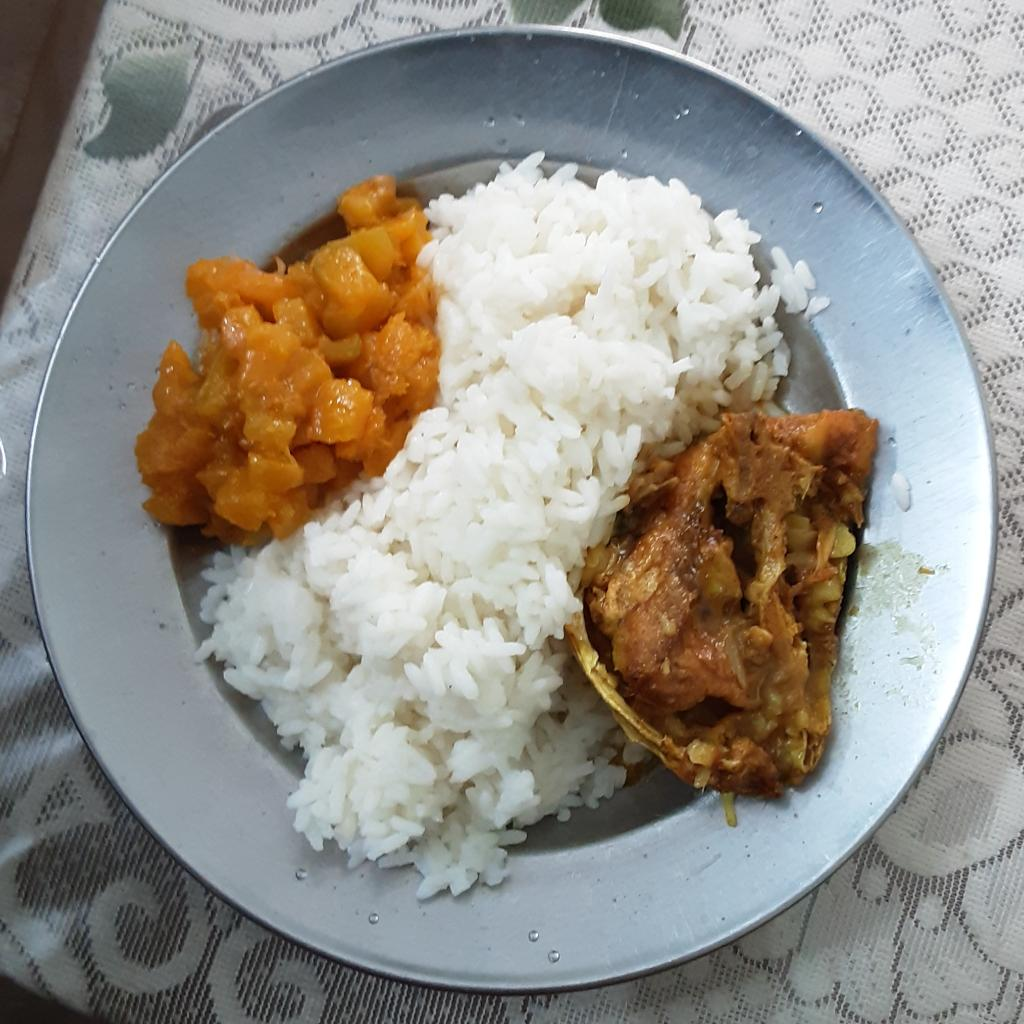fish: (567, 407, 880, 801)
kumra-vaji: (135, 171, 446, 546)
rice: (194, 151, 839, 906)
